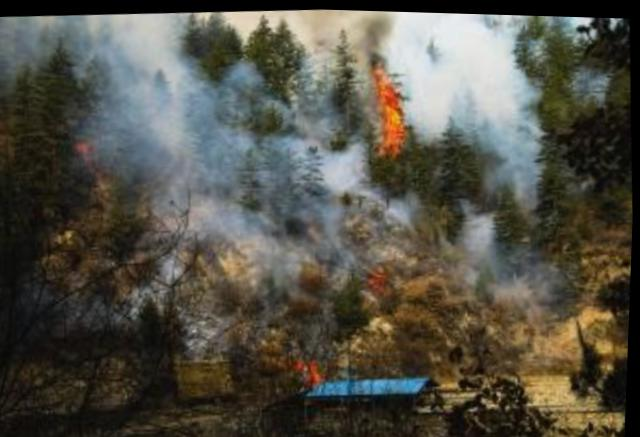fire: (356, 50, 418, 162), (293, 343, 334, 386)
